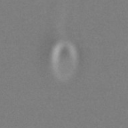normal: (48, 1, 83, 40)
